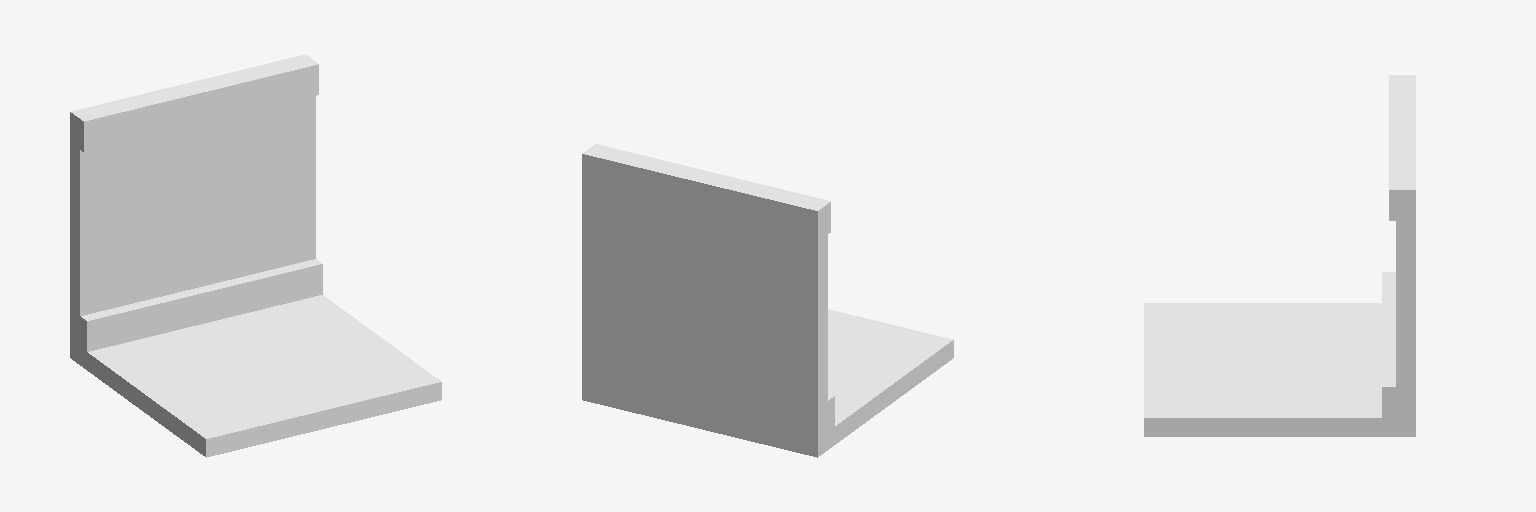
Rendered from WallLeftVoxel.obj.
The picture shows the model from 3 angles: view 1: azimuth 30°, elevation 25°; view 2: azimuth 150°, elevation 25°; view 3: azimuth 270°, elevation 25°; orthographic projection.
Parts seen in each view (by area): view 1: object 1; view 2: object 1; view 3: object 1.
Part boxes in pixels (bbox=[...]): object 1: bbox=[70, 54, 441, 457]; object 1: bbox=[582, 144, 953, 457]; object 1: bbox=[1144, 75, 1415, 436].
Bounding box in the file's own units: 4 × 4 × 4.